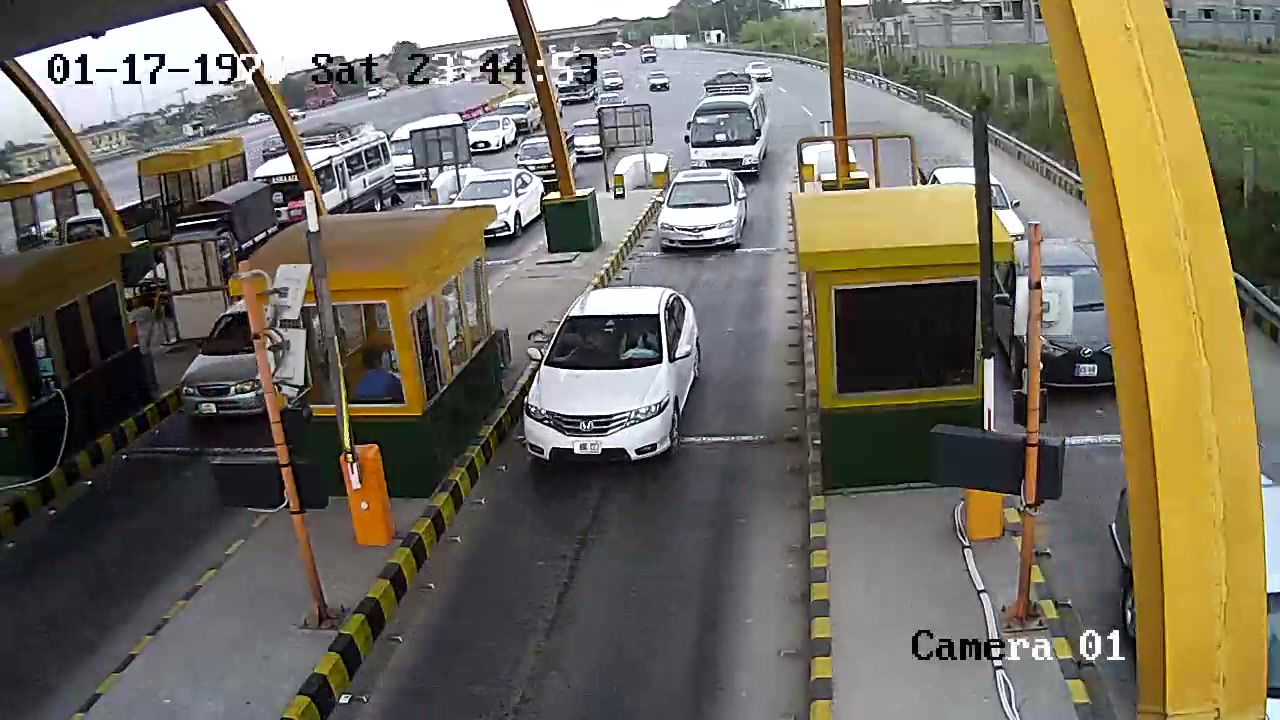F1: (519, 288, 715, 472)
